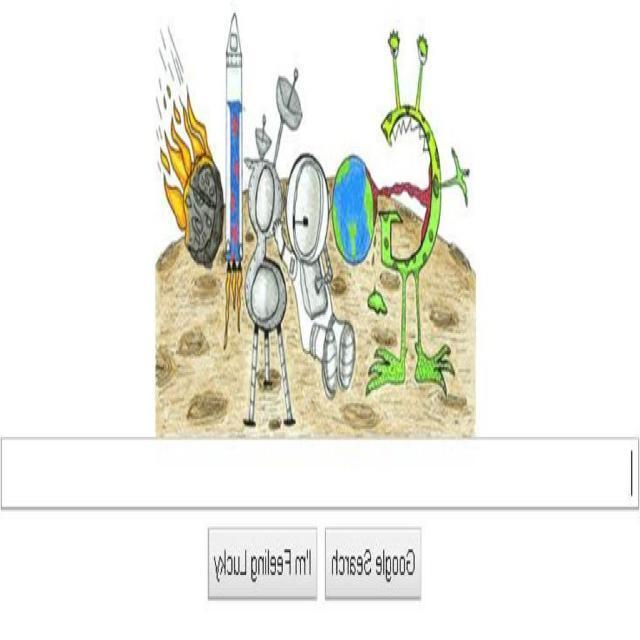Missile: (222, 8, 245, 267)
